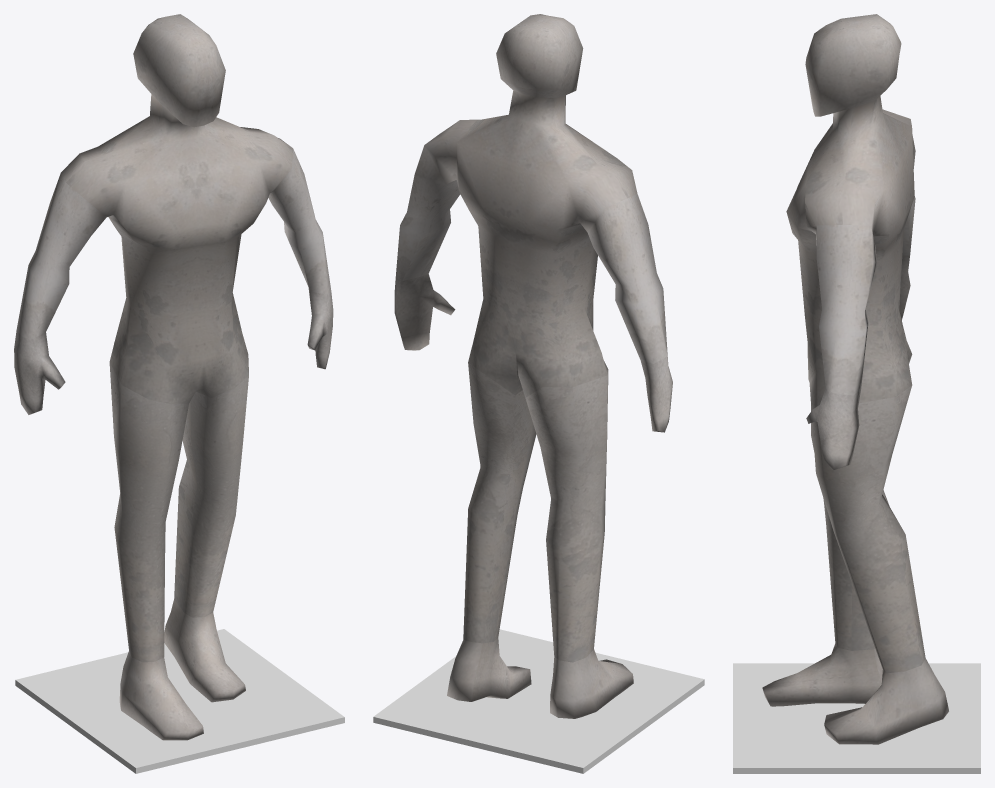
The model's file is mannequin_m.fbx.
3 views of the same model, side by side, from view 1: azimuth 30°, elevation 25°; view 2: azimuth 150°, elevation 25°; view 3: azimuth 270°, elevation 25° (orthographic). The views are drawn at different scales.
Visible parts, largest first — view 1: mannequin_m, Mannequin_Platform; view 2: mannequin_m, Mannequin_Platform; view 3: mannequin_m, Mannequin_Platform.
Boxes of the visible parts, box(x1,y1,x2,y2) form: mannequin_m: box(14, 14, 333, 740); Mannequin_Platform: box(15, 629, 344, 773); mannequin_m: box(394, 14, 672, 718); Mannequin_Platform: box(373, 629, 704, 773); mannequin_m: box(762, 14, 948, 744); Mannequin_Platform: box(733, 663, 980, 773).
Bounding box in the file's own units: 85.49 × 191 × 61.49.
